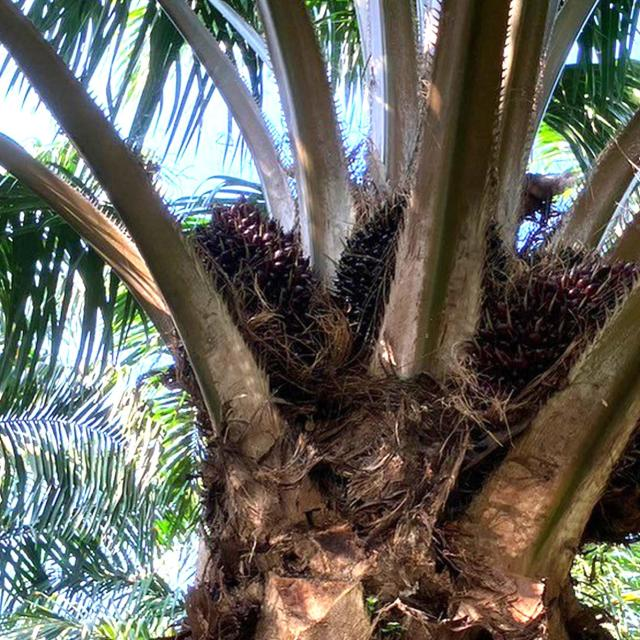ripe: (337, 208, 425, 322)
